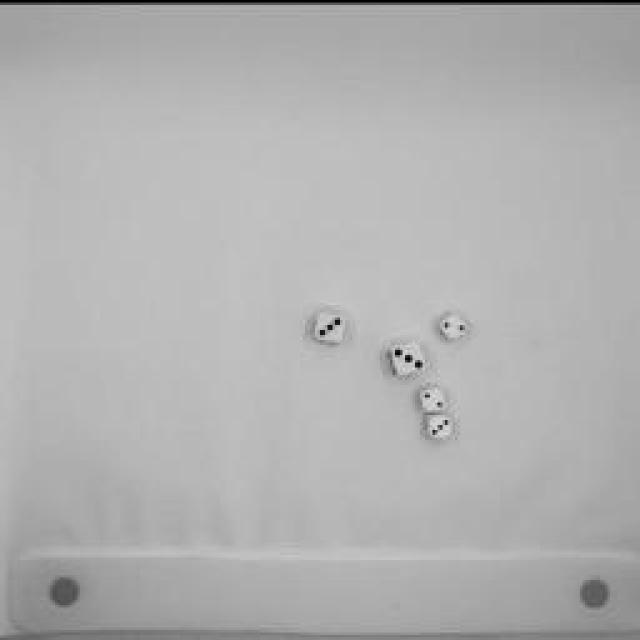dice_2: (433, 304, 475, 341), (416, 381, 452, 411)
dice_3: (385, 331, 427, 379), (310, 305, 350, 345), (425, 408, 455, 442)
